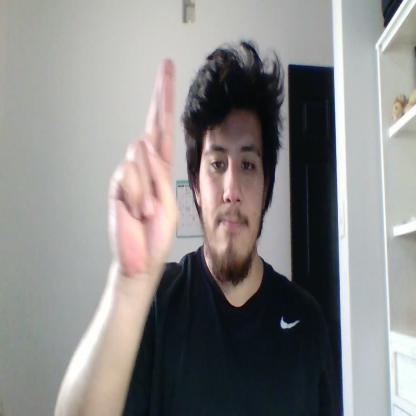R: (107, 58, 178, 277)
